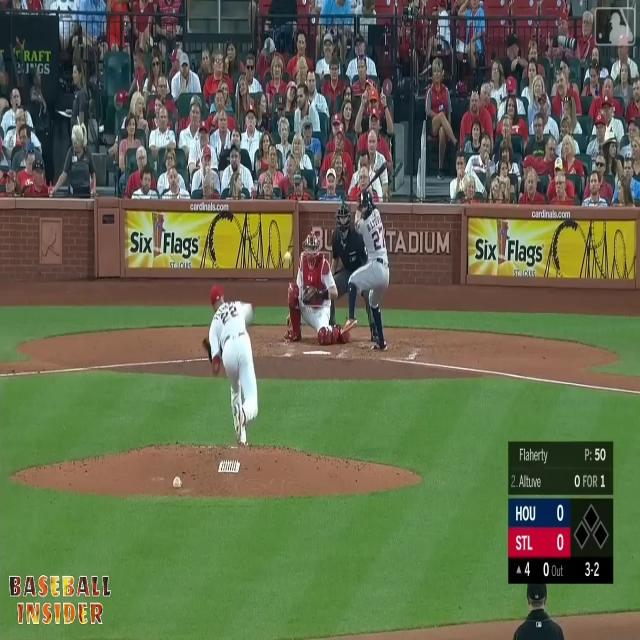baseball: (284, 250, 291, 262)
